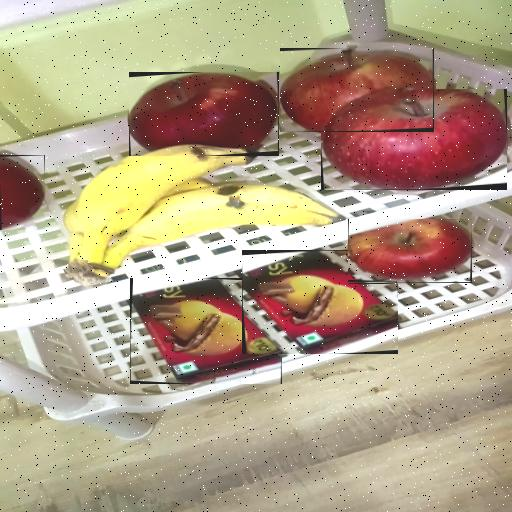Apple: (321, 89, 507, 190), (280, 48, 434, 132), (129, 72, 279, 156), (348, 220, 472, 284), (0, 155, 45, 230)
Choco Fills: (242, 250, 398, 354), (130, 278, 282, 384)
